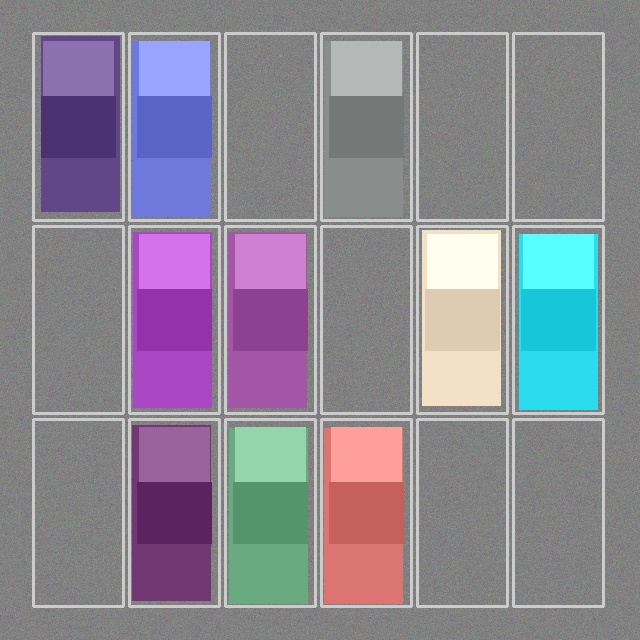space-empty: (227, 35, 313, 218), (419, 35, 505, 218), (515, 35, 601, 218), (35, 228, 121, 411), (323, 228, 409, 411), (35, 421, 121, 604), (419, 421, 505, 604), (515, 421, 601, 604)
space-occupied: (35, 35, 121, 218), (131, 35, 217, 218), (323, 35, 409, 218), (131, 228, 217, 411), (227, 228, 313, 411), (419, 228, 505, 411), (515, 228, 601, 411), (131, 421, 217, 604), (227, 421, 313, 604), (323, 421, 409, 604)
